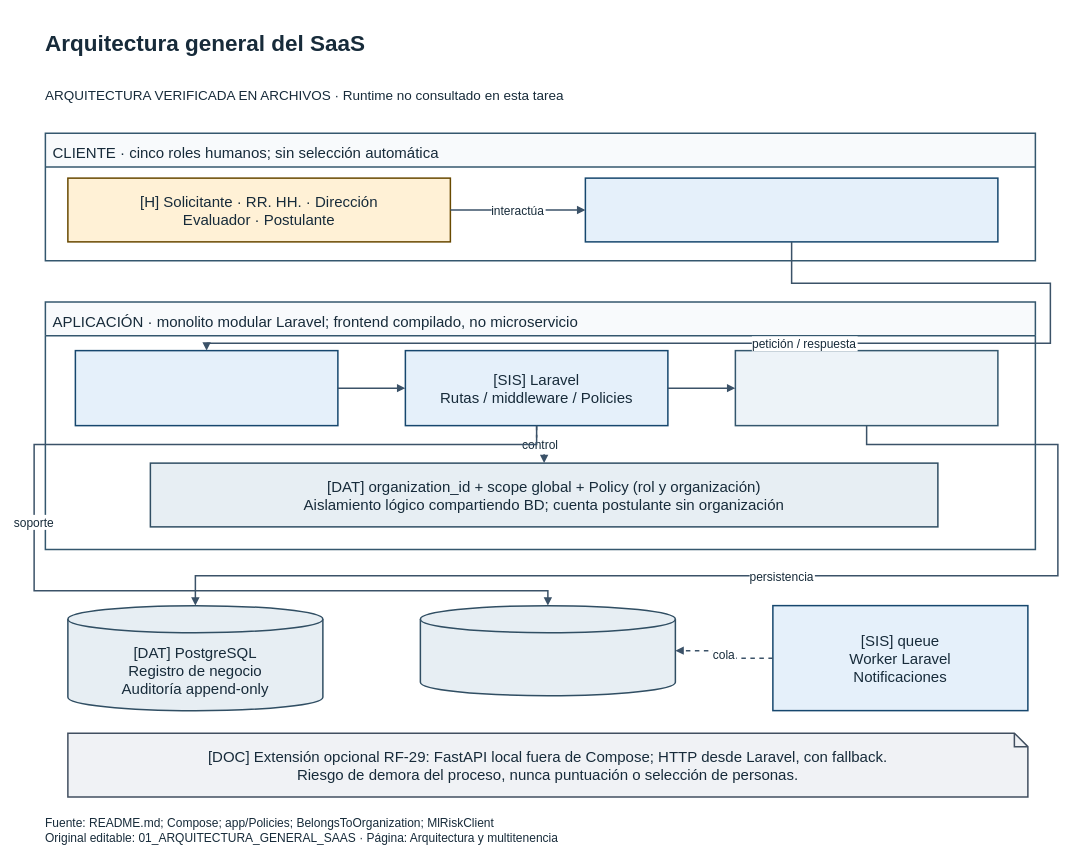
Image size: 1078x867. Some labels were removed from this diagram. Each missing label, with the centre of its shape:
"[DAT] Redis Sesión / caché / cola" goes at (547,650).
"[PROC] Servicios del dominio Requerimiento → cierre" goes at (866,388).
"[SIS] Inertia Contrato servidor–cliente" goes at (206,388).
"[SIS] React + TypeScript Páginas en el navegador" goes at (791,209).
